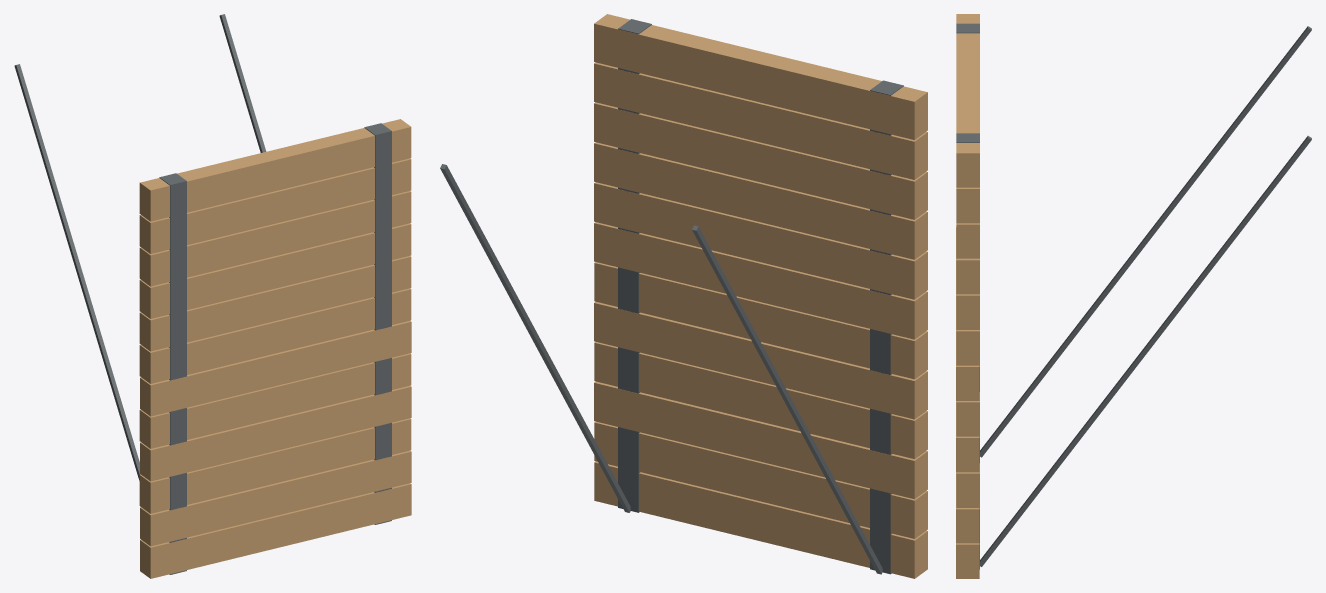
File: drawbridge-raised.glb
3 renders of one model, left to right at view 1: azimuth 30°, elevation 25°; view 2: azimuth 150°, elevation 25°; view 3: azimuth 270°, elevation 25°, orthographic. The views are drawn at different scales.
Parts seen in each view (by area): view 1: drawbridge-raised; view 2: drawbridge-raised; view 3: drawbridge-raised.
Boxes of the visible parts, x1=… form: drawbridge-raised: x1=14, y1=14, x2=411, y2=578; drawbridge-raised: x1=440, y1=14, x2=927, y2=578; drawbridge-raised: x1=956, y1=14, x2=1311, y2=578.
Bounding box in the file's own units: 2.8 × 4.02 × 3.02.
